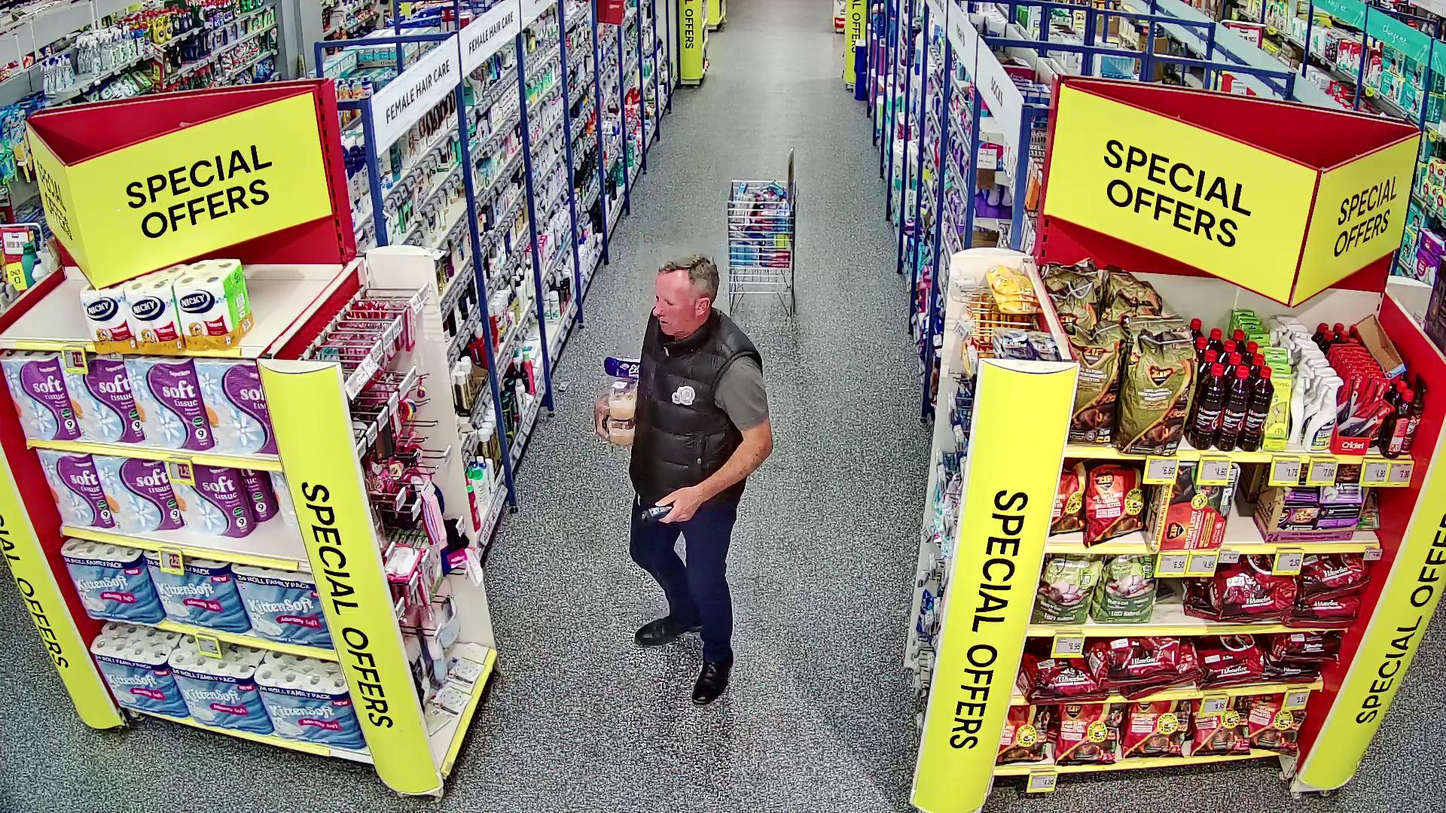carrying-item: (593, 356, 649, 448), (643, 493, 678, 531)
person: (626, 250, 775, 705)
person-with-carrying-item: (594, 250, 777, 704)
